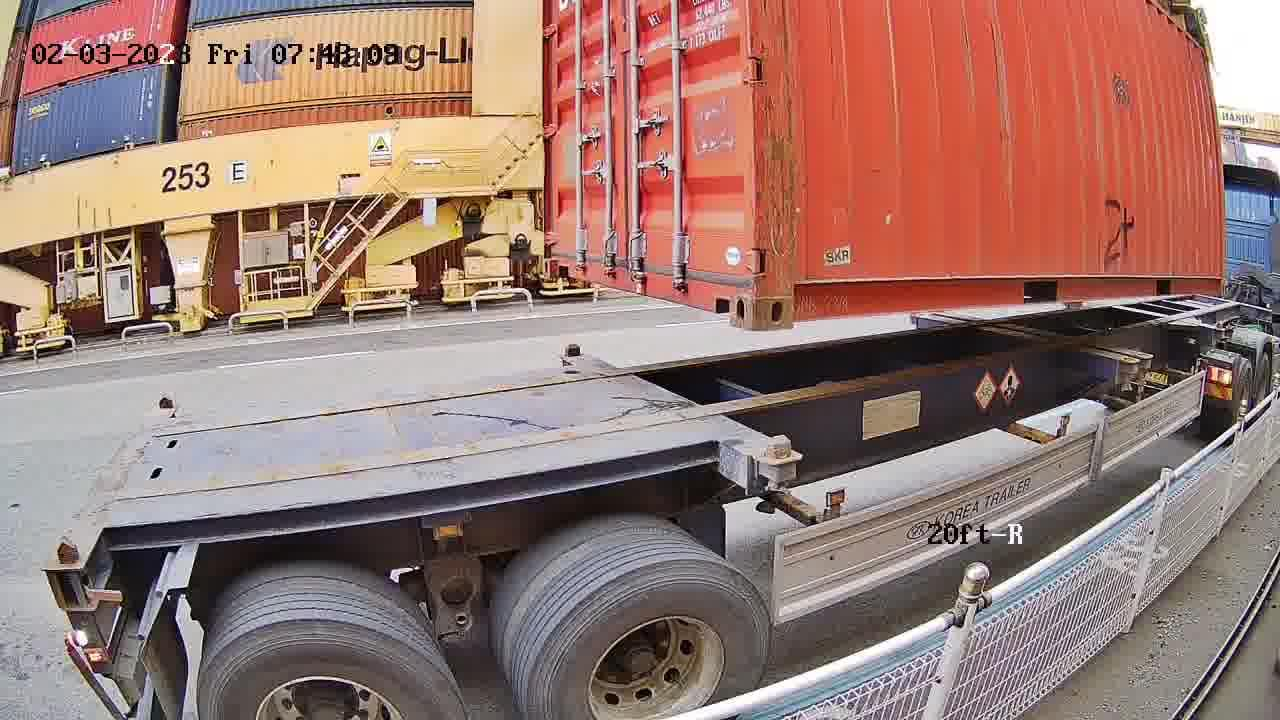Chassis: (562, 351, 797, 462)
Cone: (762, 431, 797, 497), (562, 340, 583, 357)
Hole_L: (755, 250, 835, 332), (543, 231, 579, 280)
Hole_R: (705, 245, 754, 333)
Tire: (525, 558, 772, 716), (197, 619, 462, 713)
